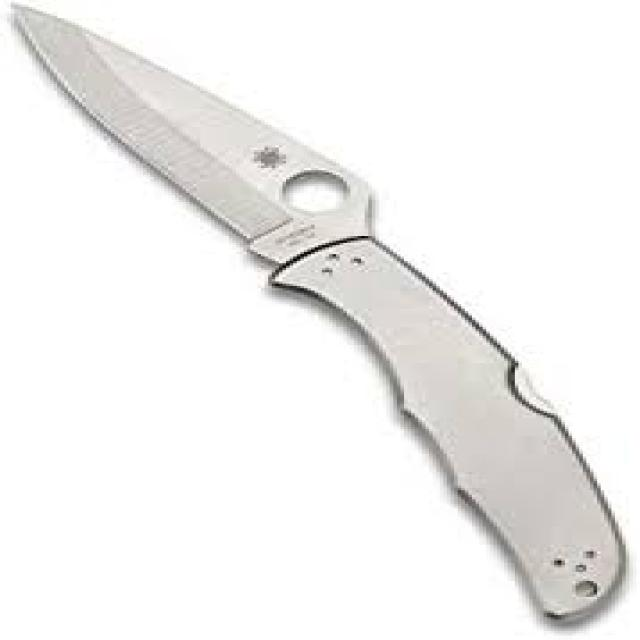knife: (4, 1, 633, 630)
